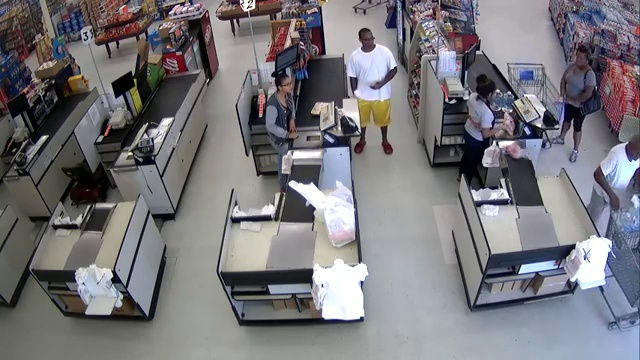face: (361, 32, 375, 50), (280, 78, 293, 93), (575, 52, 587, 68)
